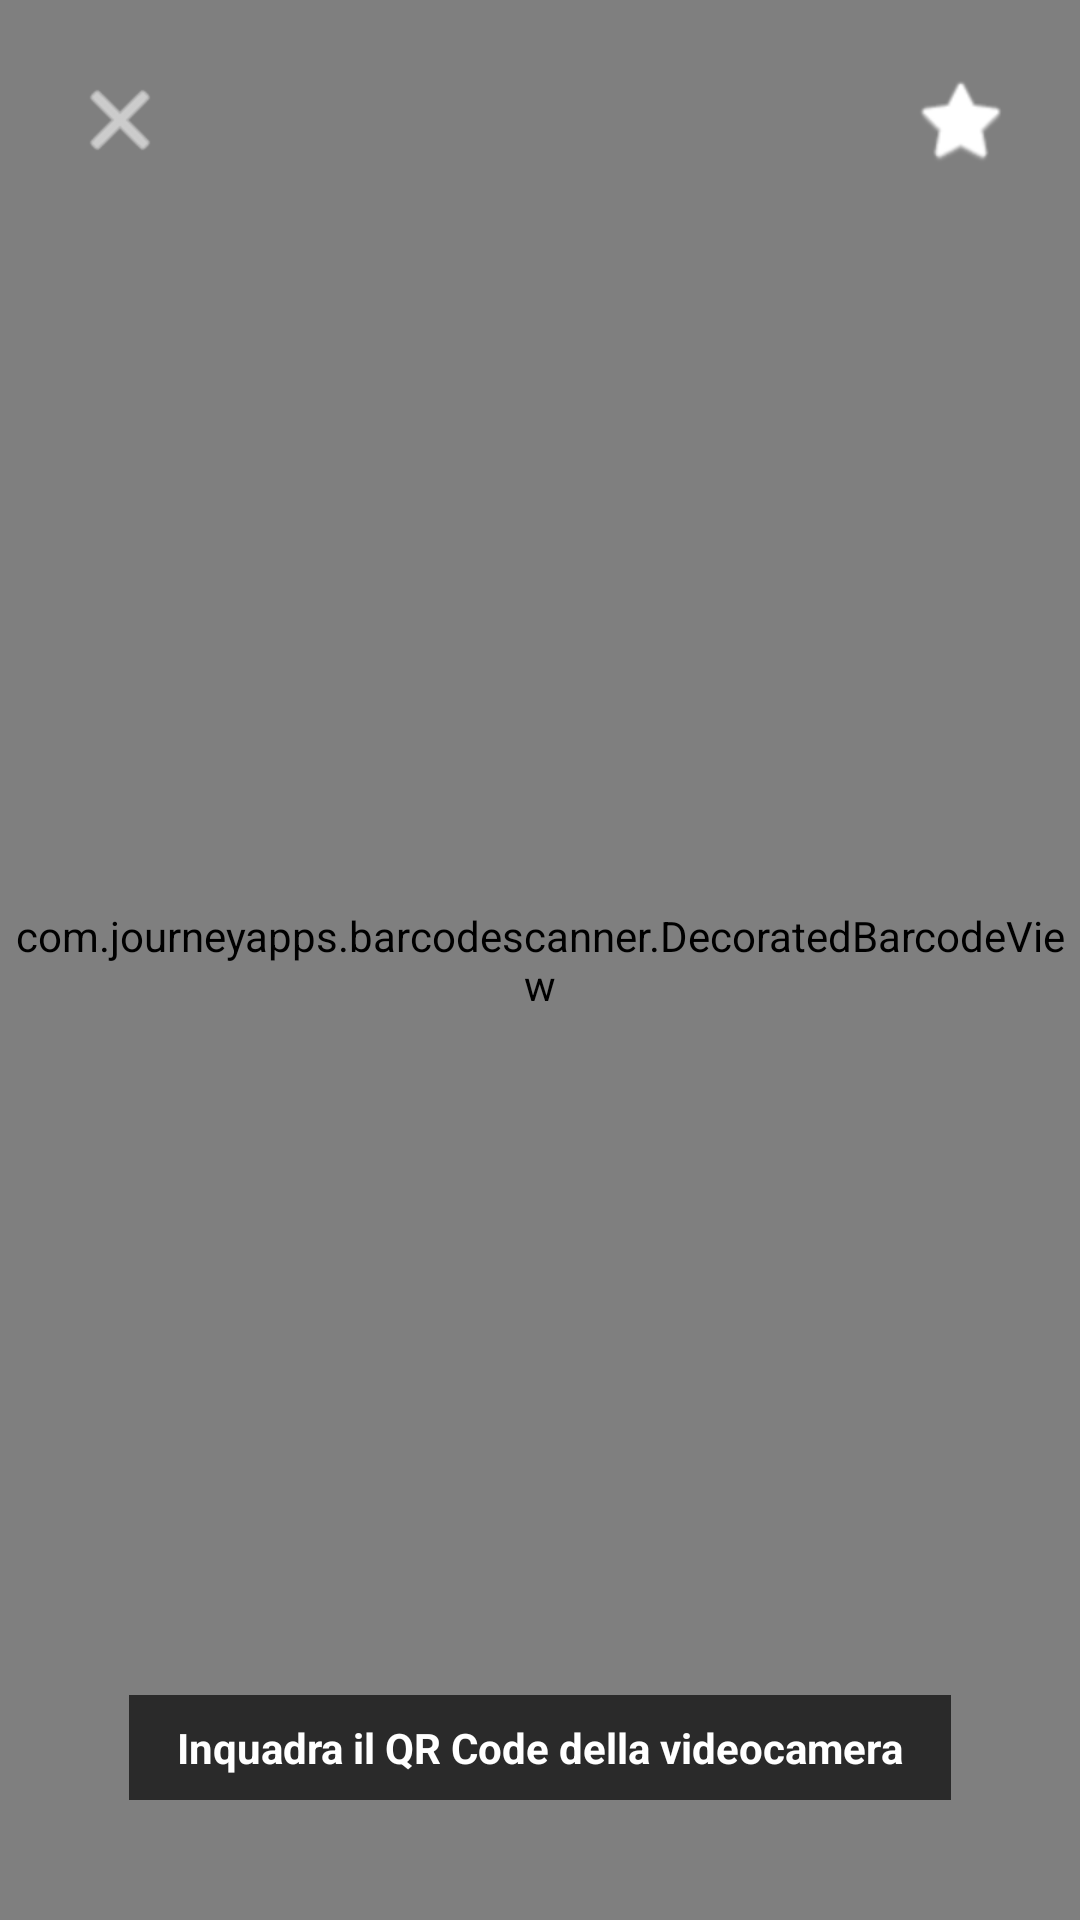

Icon bounding boxes for this 1080w x 1920h phone screenshot, format [x1=x1, y1=y1, x2=x2, y2=y2]:
Chiudi: [x1=90, y1=90, x2=150, y2=150]
